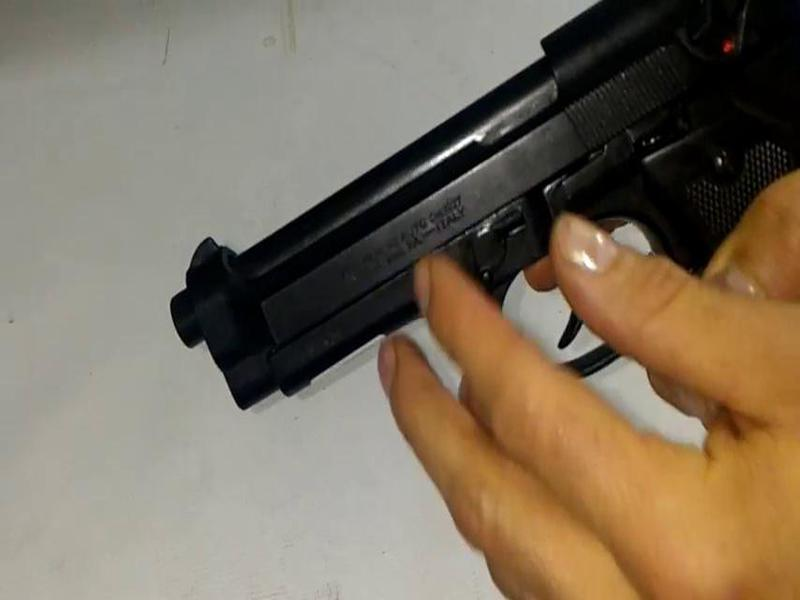Pistola: (148, 1, 793, 435)
